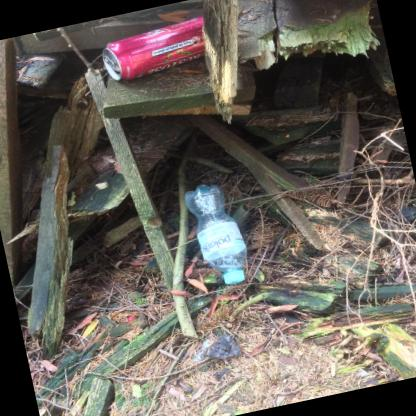Metal: (102, 15, 205, 80), (103, 55, 116, 68)
Plastic: (184, 184, 247, 284), (223, 272, 245, 284)
